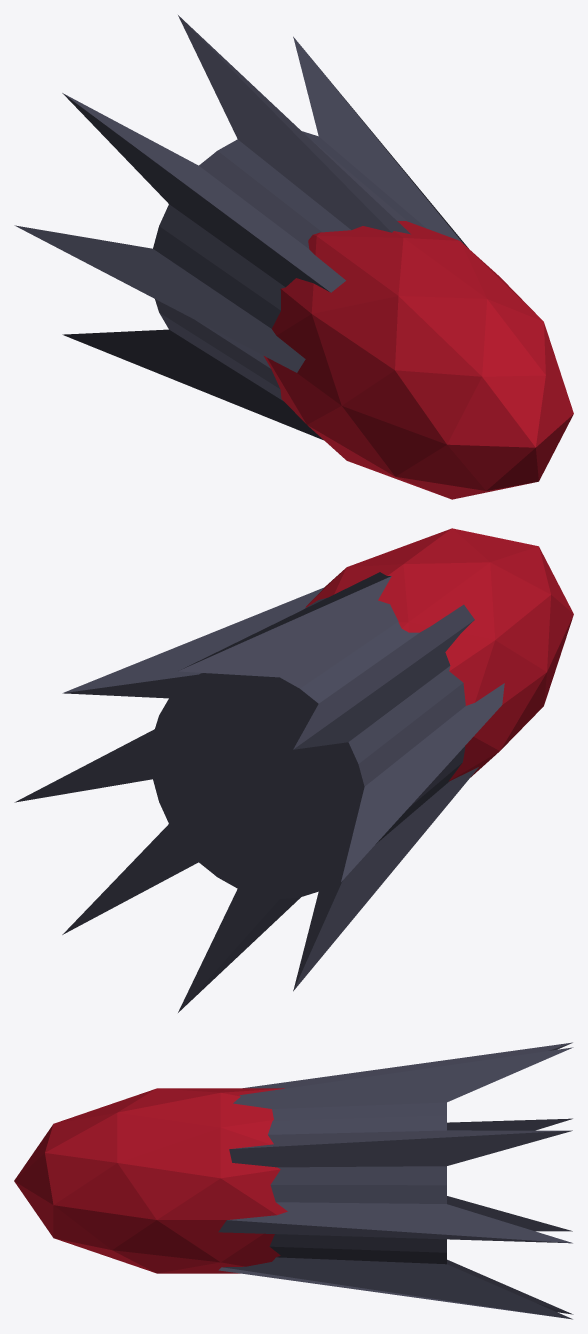
Rendered from Missile.gltf.
3 renders of one model, top to bottom at view 1: azimuth 30°, elevation 25°; view 2: azimuth 150°, elevation 25°; view 3: azimuth 270°, elevation 25°, orthographic. The views are drawn at different scales.
Visible parts, largest first — view 1: 円柱; view 2: 円柱; view 3: 円柱.
Boxes of the visible parts, x1,y1,x2,y2 form: 円柱: [14, 15, 573, 499]; 円柱: [14, 528, 573, 1012]; 円柱: [14, 1042, 573, 1319].
Bounding box in the file's own units: 3.03 × 3.03 × 5.75.
